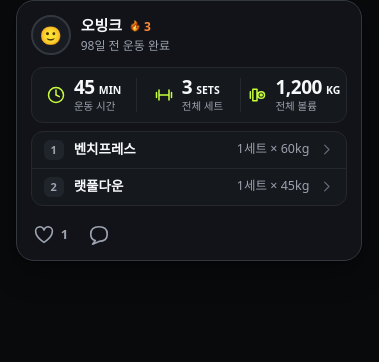
Scenario: FeedItemCard — 따라하기 버튼 › 상세를 펼치면 보인다
Expected: the text "이 운동 따라하기" is not shown
What coordinates should you click on to do the following:
click the button with aria-label "운동 상세"
I would click on:
 (189, 168)
Its box is [31,130,347,206].
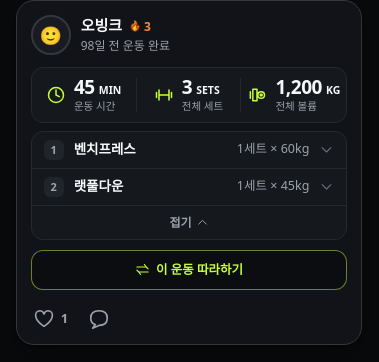
Result: the link "이 운동 따라하기" is shown at [31,250,347,290]
